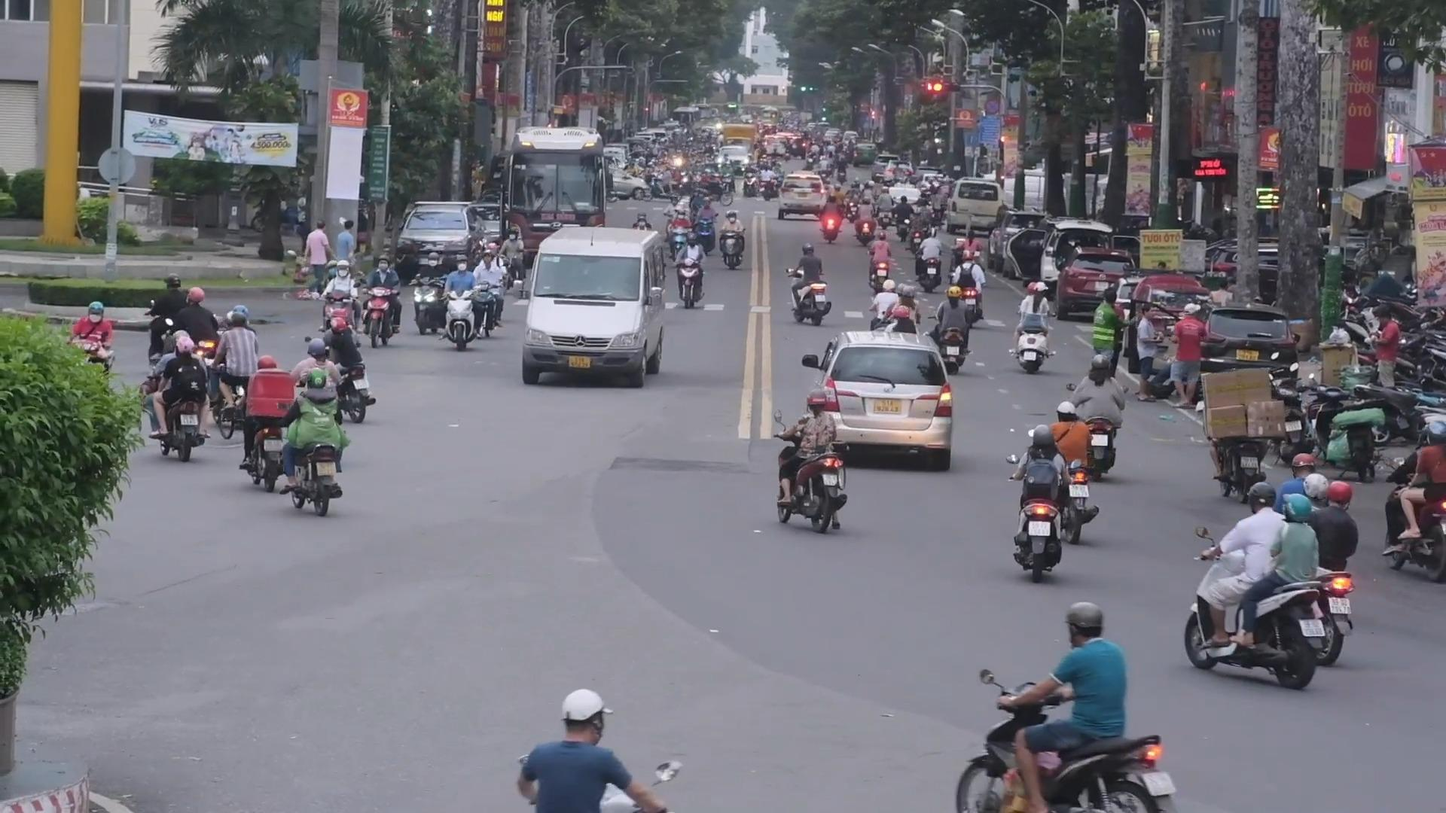bicyclist: (211, 311, 260, 439)
driver: (955, 602, 1179, 813), (1185, 481, 1326, 690), (519, 687, 682, 813), (1005, 423, 1082, 582), (274, 368, 351, 517), (773, 388, 848, 534), (1382, 413, 1446, 584), (137, 330, 211, 462), (1065, 354, 1130, 482), (439, 254, 485, 352), (1009, 282, 1056, 374), (359, 254, 402, 348), (929, 286, 974, 375), (783, 243, 831, 326), (671, 232, 706, 309), (915, 228, 943, 293), (719, 210, 746, 270), (866, 230, 891, 292)
helmet: (561, 688, 613, 746), (1064, 602, 1103, 650), (1247, 481, 1277, 515), (1281, 492, 1312, 524), (1327, 480, 1352, 512), (1290, 453, 1316, 479), (1033, 423, 1054, 451), (806, 387, 826, 413), (1056, 400, 1077, 422), (175, 336, 195, 358), (307, 368, 326, 390), (1091, 354, 1109, 376), (185, 287, 205, 306), (308, 338, 326, 358), (88, 301, 104, 323), (329, 317, 346, 336), (257, 356, 277, 369), (948, 286, 963, 301), (882, 279, 896, 293), (802, 242, 814, 256)
no-helmet: (231, 312, 246, 327), (1034, 282, 1048, 296)
